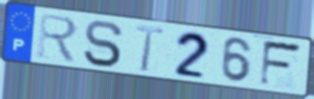2: (169, 29, 214, 83)
6: (220, 37, 255, 84)
F: (257, 39, 305, 89)
R: (36, 12, 81, 66)
S: (81, 19, 125, 69)
T: (134, 23, 166, 74)
